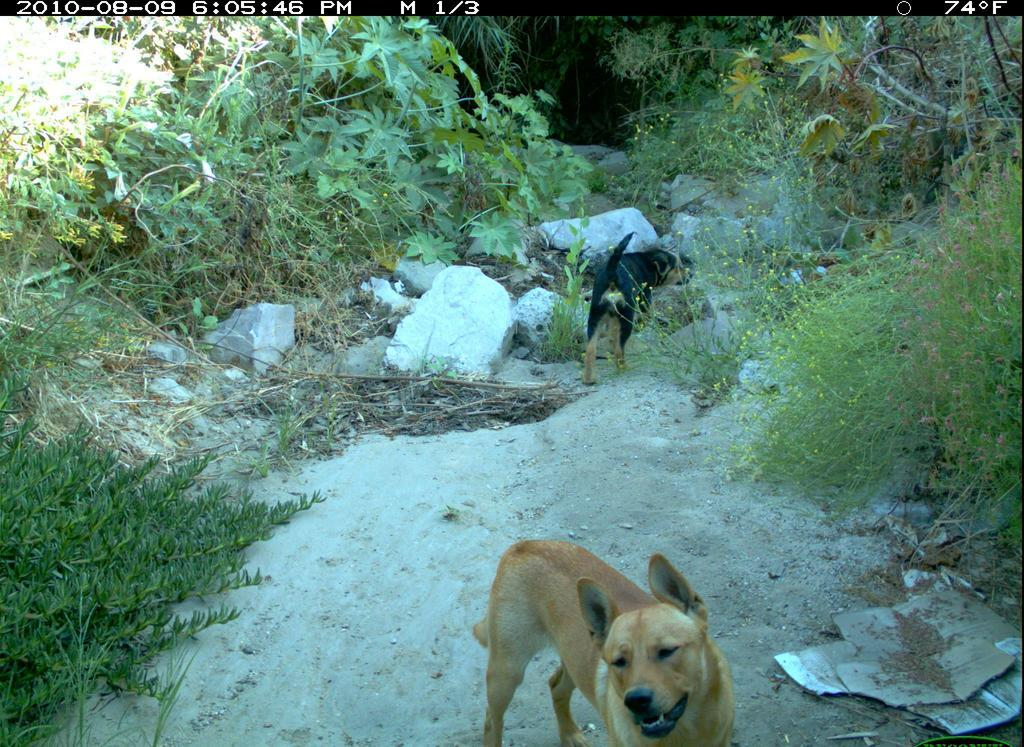dog: (463, 528, 758, 744), (573, 228, 705, 393)
